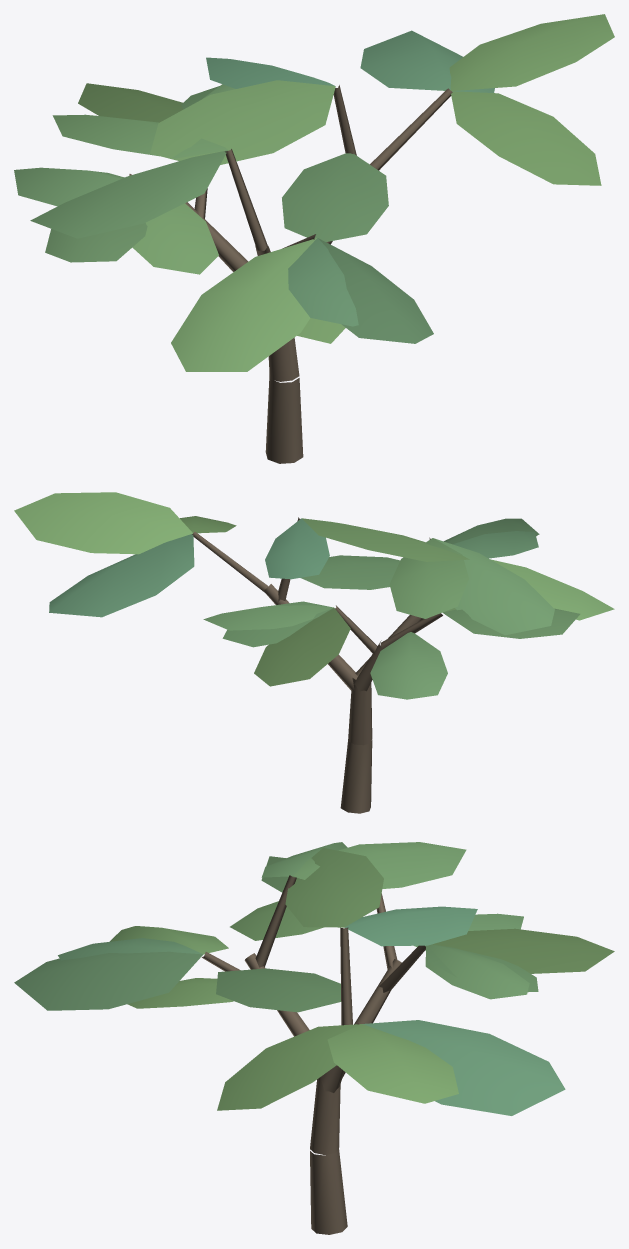
Rendered from tree-spreading.glb.
3 renders of one model, top to bottom at view 1: azimuth 30°, elevation 25°; view 2: azimuth 150°, elevation 25°; view 3: azimuth 270°, elevation 25°, orthographic. The views are drawn at different scales.
Visible parts, largest first — view 1: tree-spreading; view 2: tree-spreading; view 3: tree-spreading.
Part boxes in pixels (x1,y1,x2,y2): tree-spreading: (14,14,614,463); tree-spreading: (14,492,614,813); tree-spreading: (14,842,614,1234).
Bounding box in the file's own units: 12.67 × 6.88 × 11.34.
